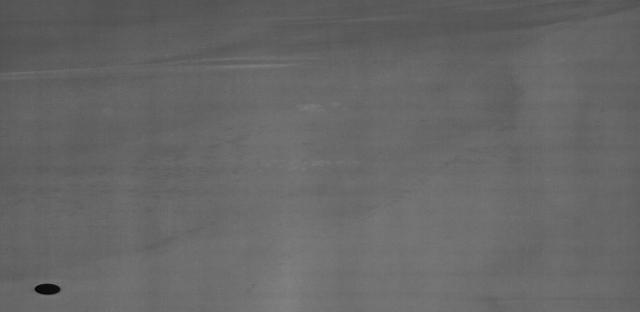punching_hole: (30, 280, 66, 298)
